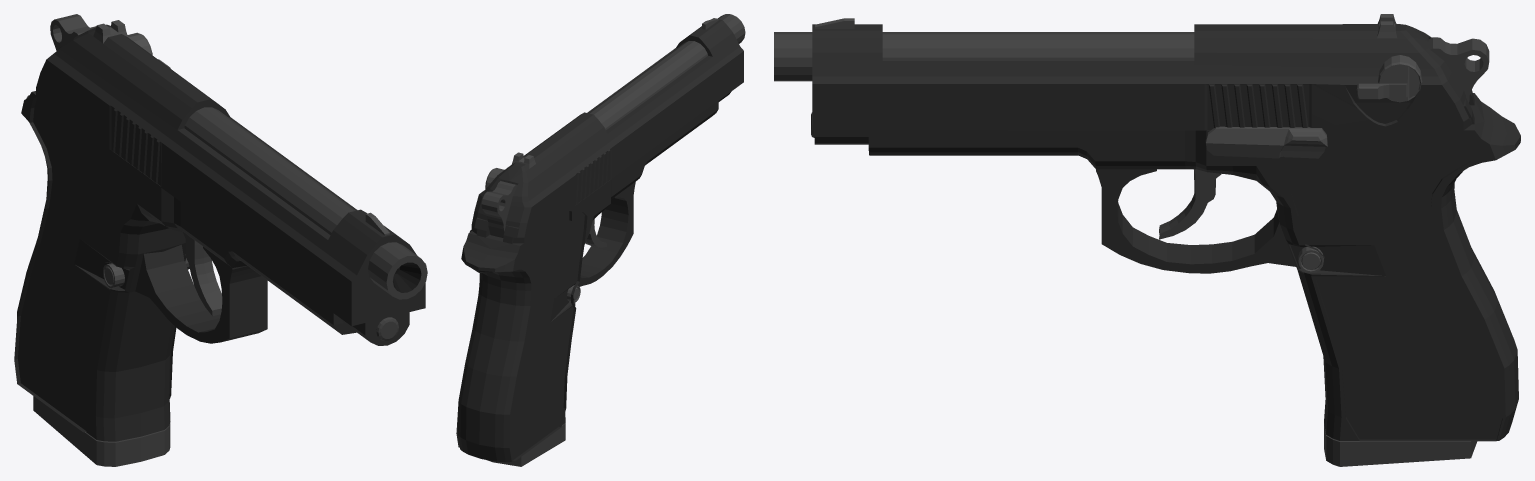
File: gun.fbx
The picture shows the model from 3 angles, left to right: view 1: azimuth 30°, elevation 25°; view 2: azimuth 150°, elevation 25°; view 3: azimuth 270°, elevation 25°; orthographic projection. The views are drawn at different scales.
Visible parts, largest first — view 1: Cube.022; view 2: Cube.022; view 3: Cube.022.
Part boxes in pixels (left/top/right/bottom): Cube.022: left=14, top=14, right=427, bottom=466; Cube.022: left=456, top=14, right=745, bottom=466; Cube.022: left=774, top=14, right=1520, bottom=466.
Size of the model in its own units: 33.41 by 148 by 234.
Materials: 1 (1 with a texture image).
